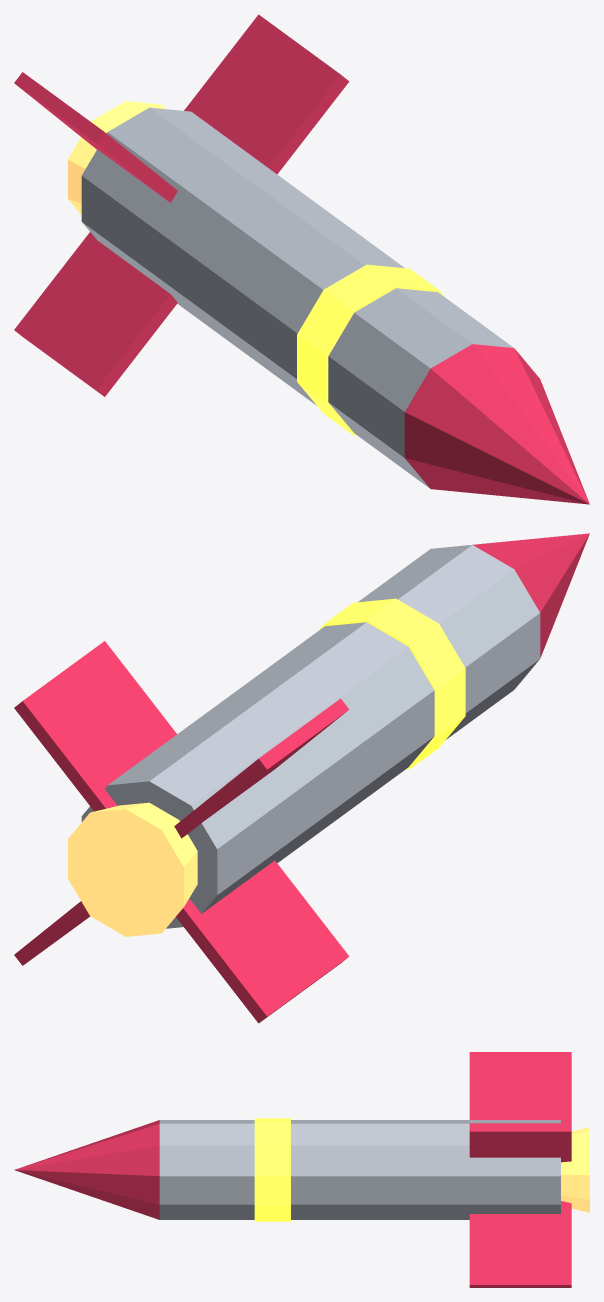
Rendered from hornet_rocket.glb.
3 views of the same model, one above another, from view 1: azimuth 30°, elevation 25°; view 2: azimuth 150°, elevation 25°; view 3: azimuth 270°, elevation 25° (orthographic). The views are drawn at different scales.
Parts seen in each view (by area): view 1: rocket; view 2: rocket; view 3: rocket.
Part boxes in pixels (<box>): rocket: <box>14,14,589,504</box>; rocket: <box>14,533,589,1023</box>; rocket: <box>14,1052,589,1287</box>.
Size of the model in its own units: 0.2489 by 0.2489 by 0.79.
